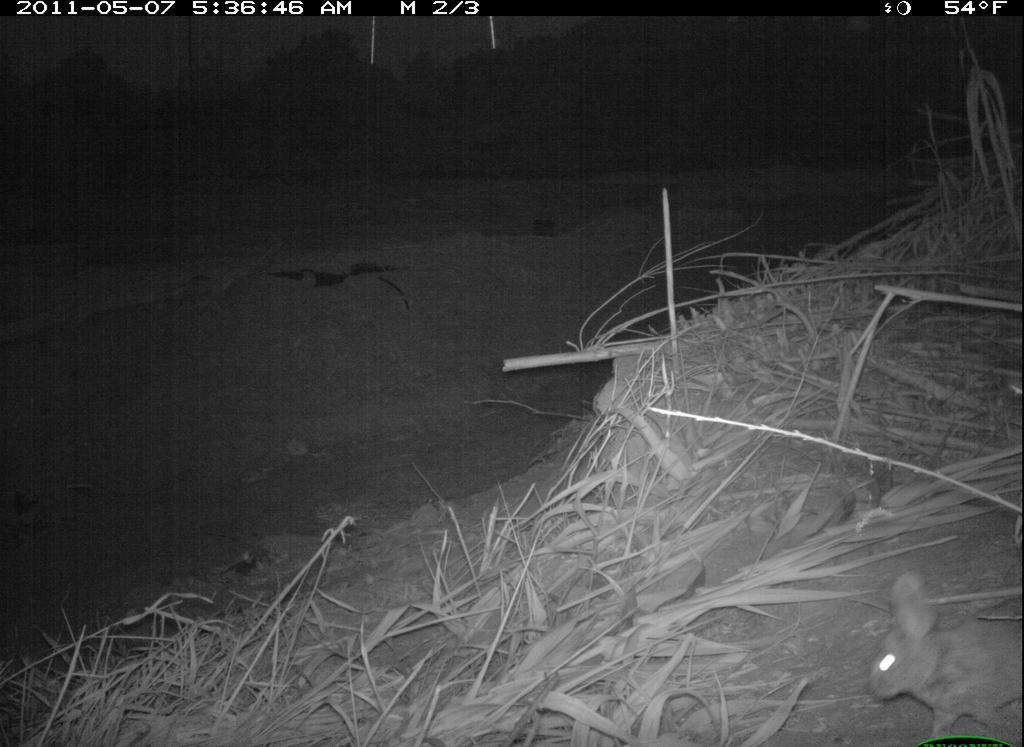rabbit: (867, 562, 1023, 738)
